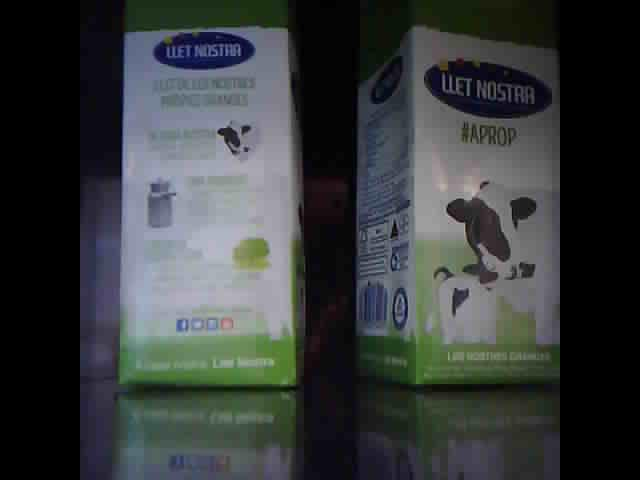leche: (354, 3, 559, 387), (119, 4, 302, 391)
